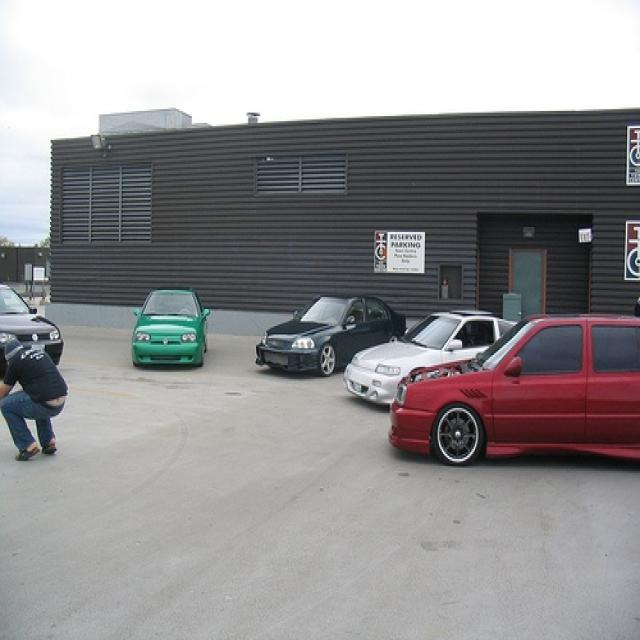car: (386, 314, 638, 466), (344, 307, 518, 410), (255, 294, 407, 377), (132, 288, 211, 367), (0, 283, 63, 372)
